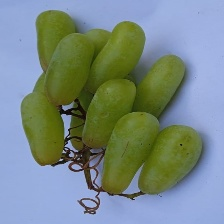grapes: (13, 0, 191, 186)
